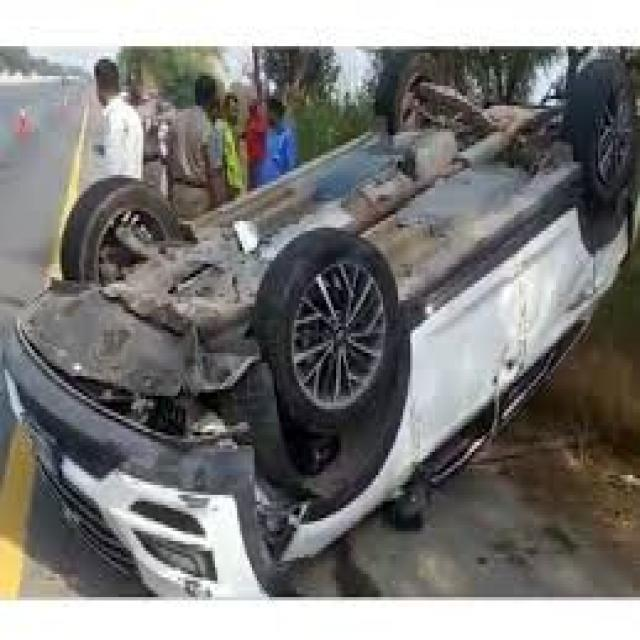accident: (18, 97, 621, 592)
